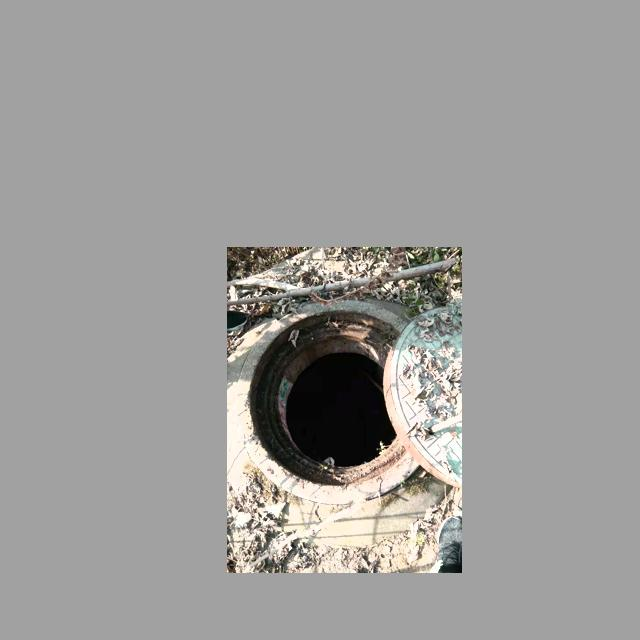uncovered: (237, 300, 460, 506)
